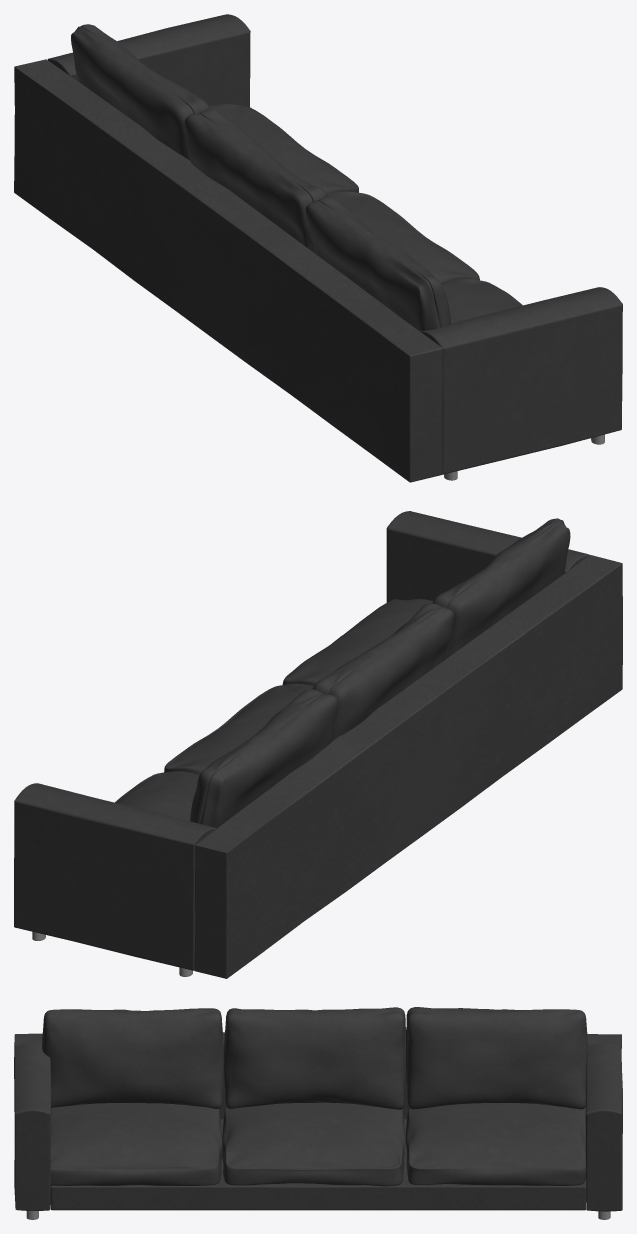
The model's file is sofa.fbx.
The picture shows the model from 3 angles, top to bottom: view 1: azimuth 30°, elevation 25°; view 2: azimuth 150°, elevation 25°; view 3: azimuth 270°, elevation 25°; orthographic projection. The views are drawn at different scales.
Visible parts, largest first — view 1: back, right, back_sit, sit, left; view 2: back, left, back_sit, sit, right; view 3: back_sit, sit, bottom, left, right, back.
Part boxes in pixels (<box>): back: <box>14,59,442,482</box>; right: <box>420,287,622,474</box>; back_sit: <box>71,24,450,331</box>; sit: <box>209,104,522,323</box>; left: <box>47,14,250,106</box>; back: <box>194,555,622,978</box>; left: <box>14,783,216,970</box>; back_sit: <box>190,518,570,828</box>; sit: <box>115,599,433,821</box>; right: <box>386,511,589,602</box>; back_sit: <box>42,1007,587,1109</box>; sit: <box>50,1102,586,1186</box>; bottom: <box>50,1119,586,1210</box>; left: <box>585,1043,622,1211</box>; right: <box>14,1043,51,1210</box>; back: <box>14,1032,621,1119</box>.
Bounding box in the file's own units: 86.01 × 73.61 × 273.
1 material, 1 textured.
